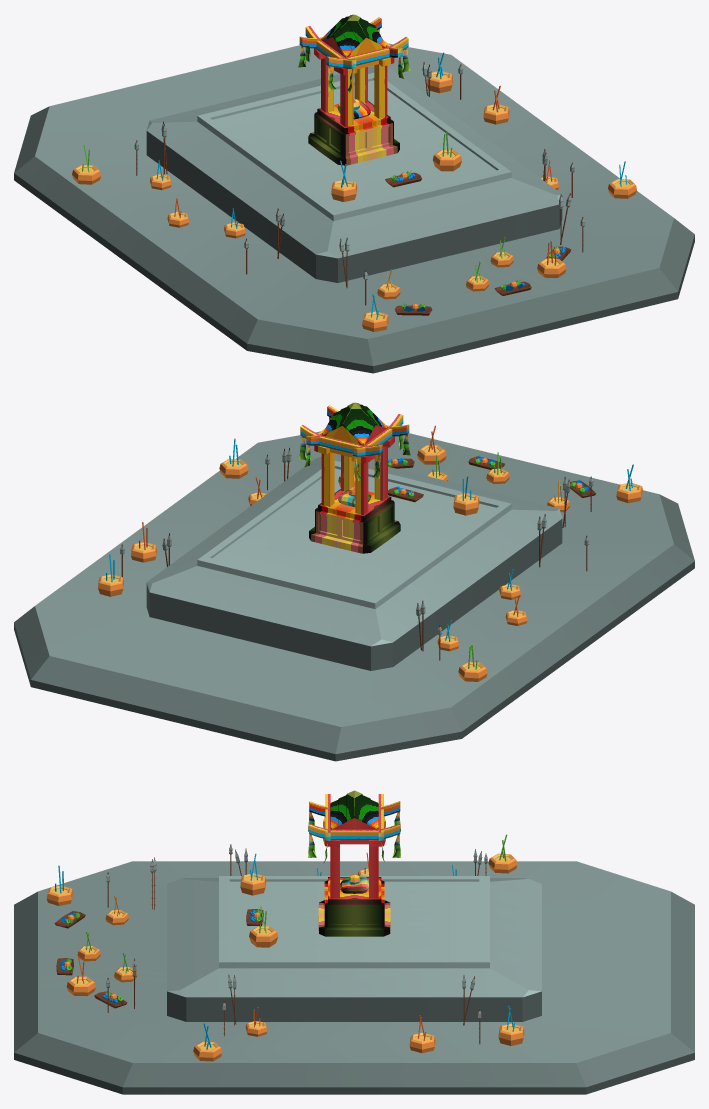
The model's file is Fbx_Churchcolo.fbx.
The picture shows the model from 3 angles, top to bottom: view 1: azimuth 30°, elevation 25°; view 2: azimuth 150°, elevation 25°; view 3: azimuth 270°, elevation 25°; orthographic projection.
Visible parts, largest first — view 1: Cube.038; view 2: Cube.038; view 3: Cube.038.
Boxes of the visible parts, <box> form: Cube.038: <box>14,14,694,373</box>; Cube.038: <box>14,402,694,761</box>; Cube.038: <box>14,790,694,1094</box>.
Size of the model in its own units: 3820 by 1601 by 5058.
